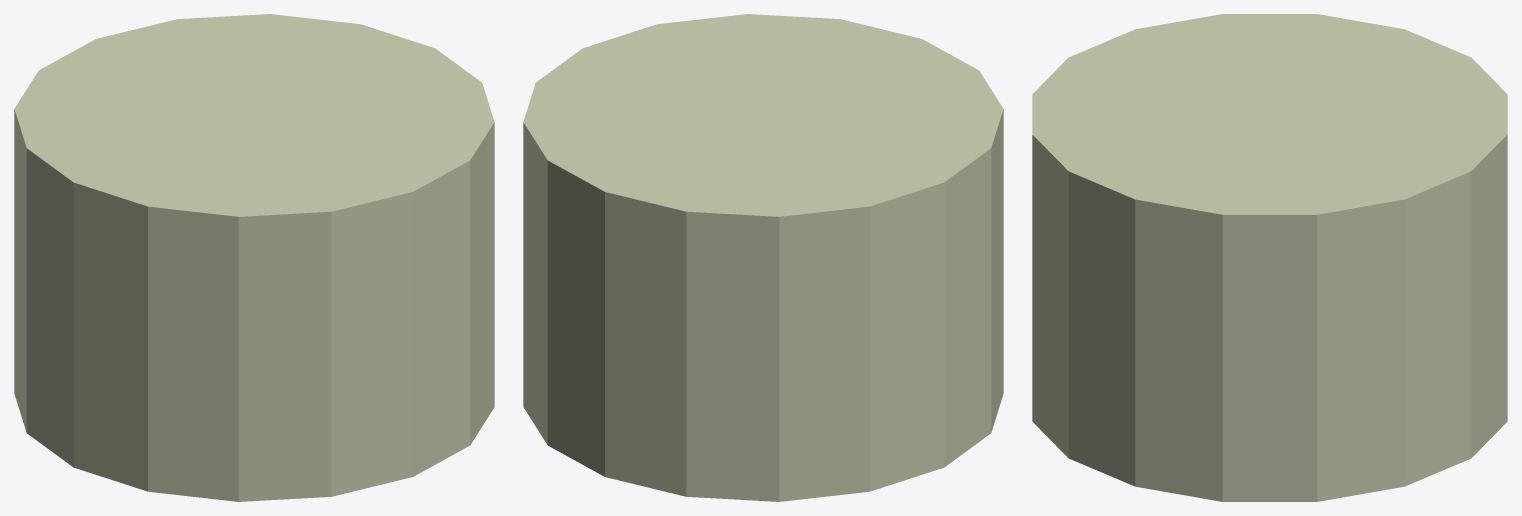
Rendered from rotanev_fuel_tank_s0p5_1_collider.obj.
3 renders of one model, left to right at view 1: azimuth 30°, elevation 25°; view 2: azimuth 150°, elevation 25°; view 3: azimuth 270°, elevation 25°, orthographic.
Visible parts, largest first — view 1: rotanev_fuel_tank_s0p5_1_collider; view 2: rotanev_fuel_tank_s0p5_1_collider; view 3: rotanev_fuel_tank_s0p5_1_collider.
Boxes of the visible parts, box(x1,y1,x2,y2) form: rotanev_fuel_tank_s0p5_1_collider: box(14, 14, 494, 501); rotanev_fuel_tank_s0p5_1_collider: box(523, 14, 1003, 501); rotanev_fuel_tank_s0p5_1_collider: box(1032, 14, 1507, 501).
Bounding box in the file's own units: 0.9375 × 0.625 × 0.9375.
